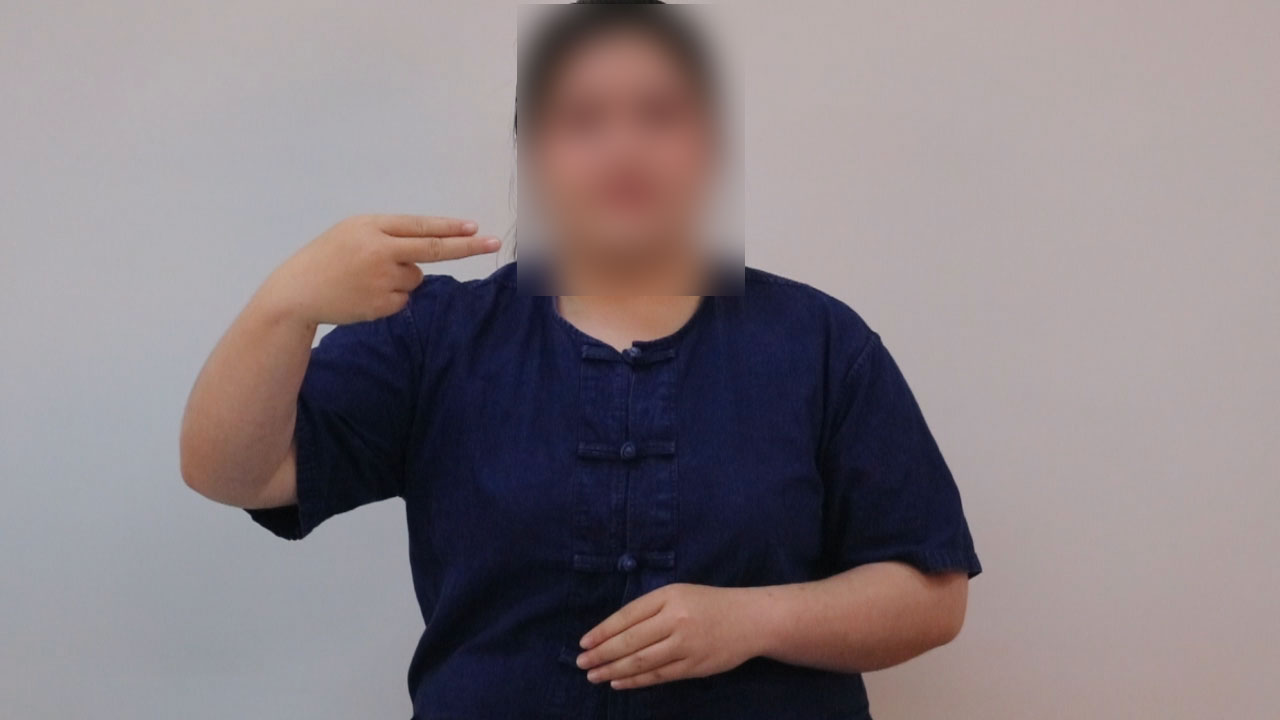hor: (275, 205, 513, 334)
